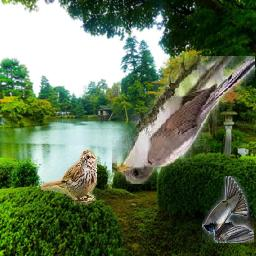Cuckoo: (113, 56, 256, 184)
Sparrow: (41, 149, 97, 205)
Swallow: (202, 177, 254, 244)
